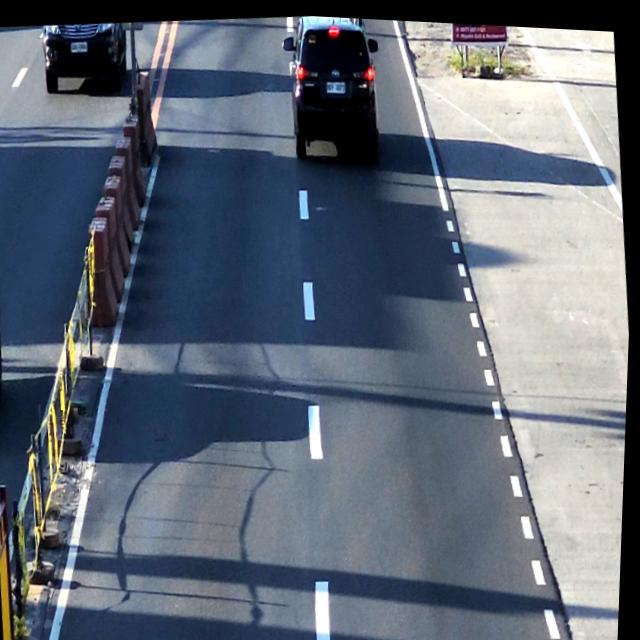Car: (284, 12, 383, 163)
License-Plate: (325, 73, 348, 93)
